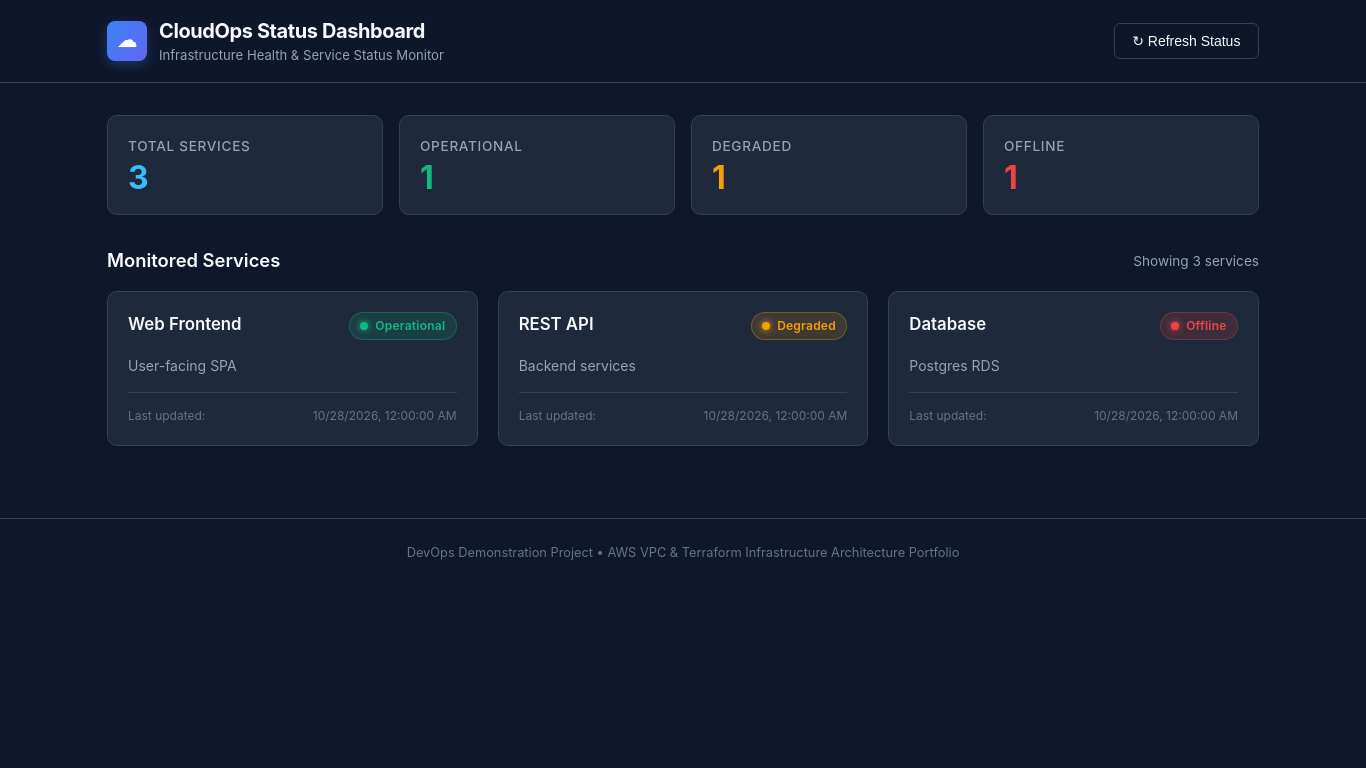
Test: Dashboard Component › allows updating service status from the modal
Check: the heading "Web Frontend" is shown, box [128, 312, 242, 337]
What coordinates should you click on to do the following:
click the button with aria-label "View details for Web Frontend"
I would click on:
 (185, 324)
Its box is [107, 291, 478, 446].
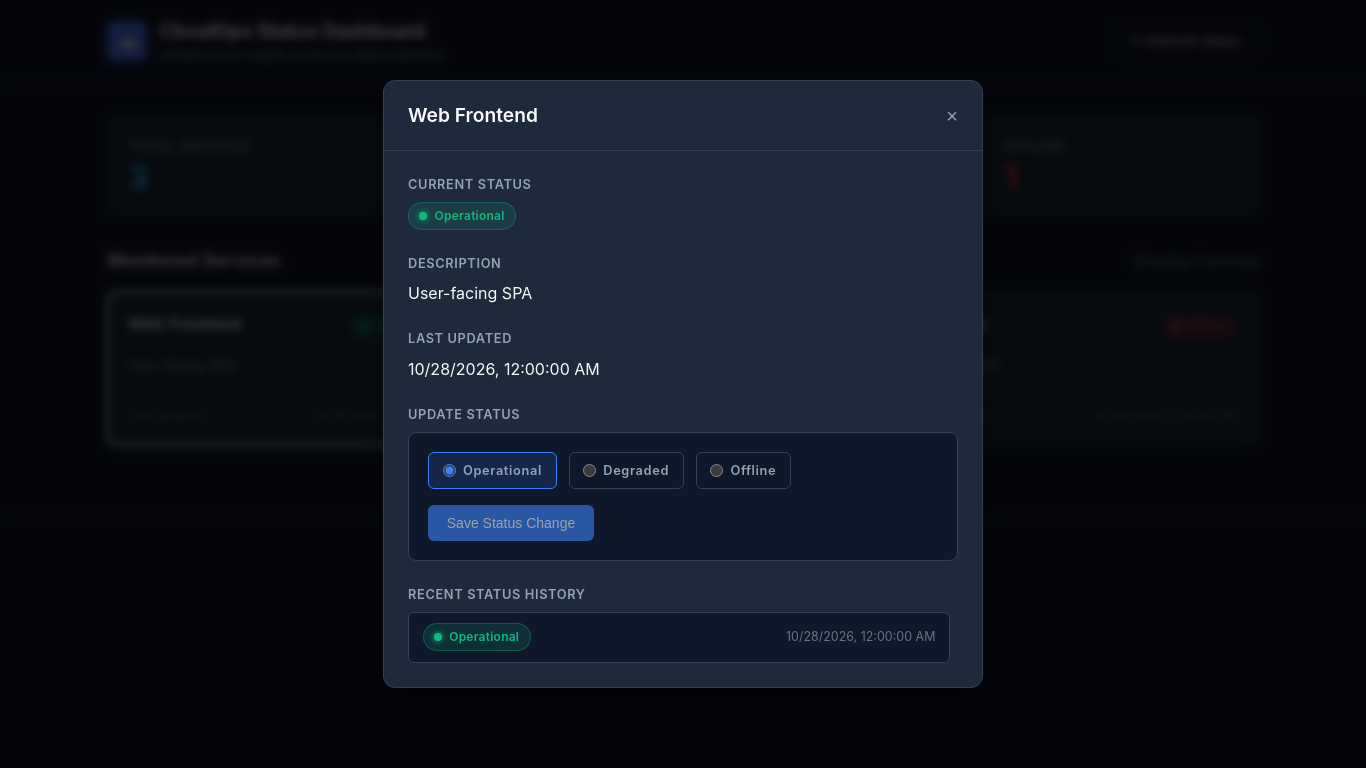
Check: the dialog is shown
Note: Select 'degraded' radio button
What coordinates should you click on to do the following:
click the radio button labelled "degraded"
I would click on:
 (590, 470)
Its box is [583, 464, 596, 477].
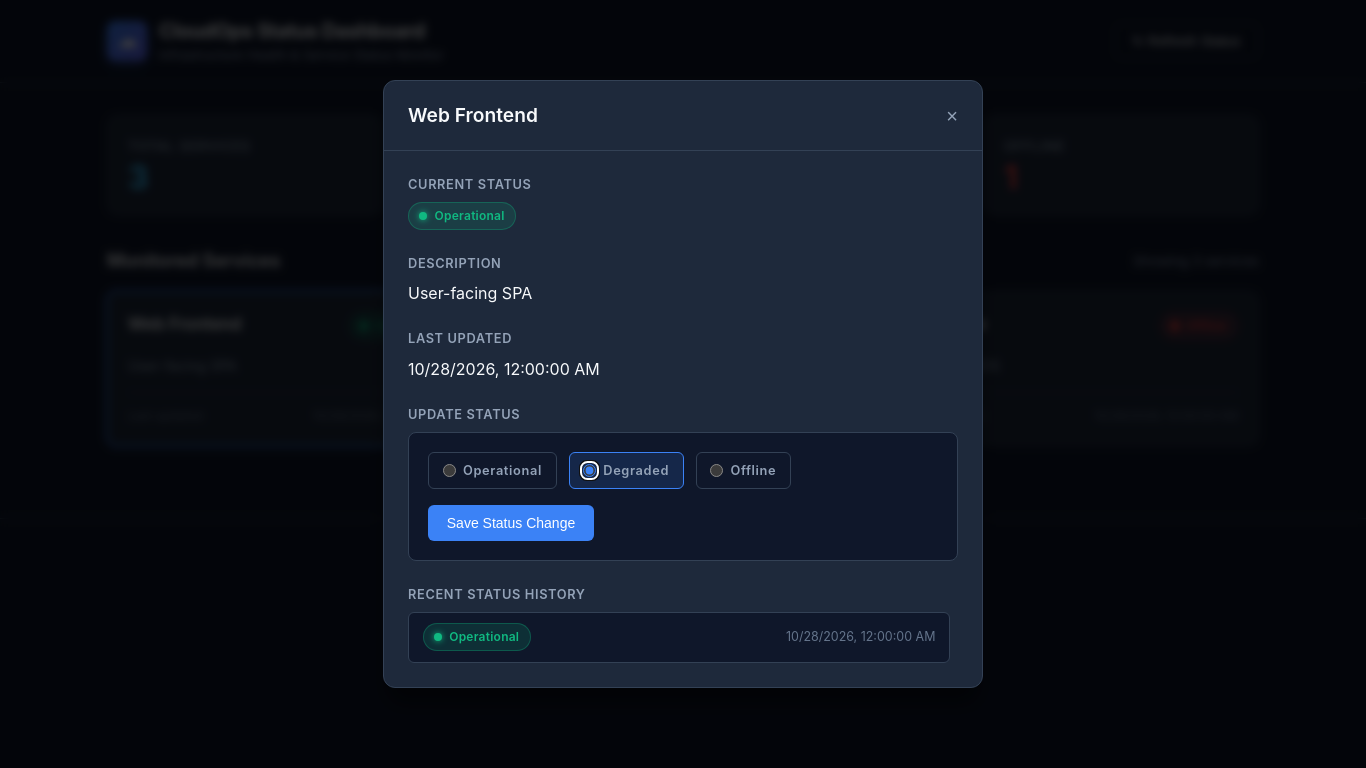
Note: Click submit
What coordinates should you click on to do the following:
click the button "Save Status Change"
I would click on:
 (511, 523)
Its box is [428, 505, 594, 541].
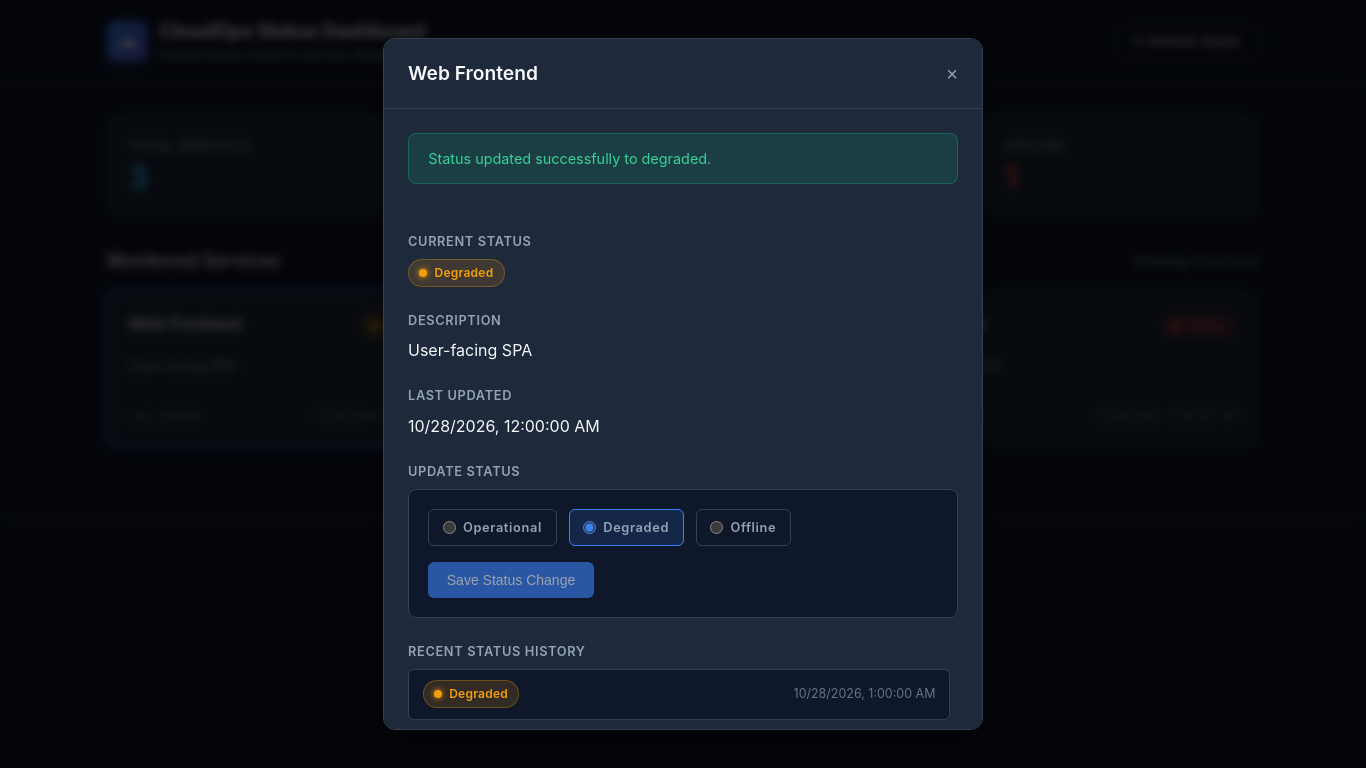
Check: the text "Status updated successfully to degraded." is shown, box [428, 148, 711, 169]
